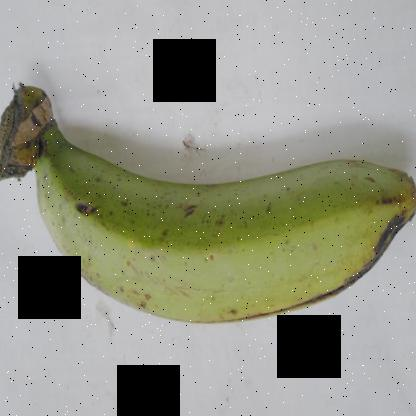unripe: (36, 139, 416, 328)
